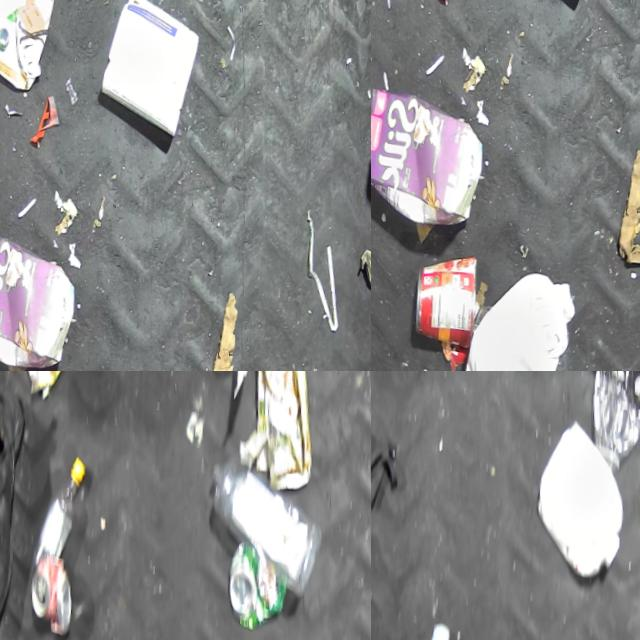can: (418, 255, 490, 353), (228, 542, 293, 636), (29, 552, 82, 640)
milk_jug: (532, 418, 637, 586), (465, 270, 590, 371)
non_white_jug: (371, 80, 494, 237), (0, 223, 86, 371), (0, 0, 64, 91)
plastic_bottle: (584, 371, 640, 477)
